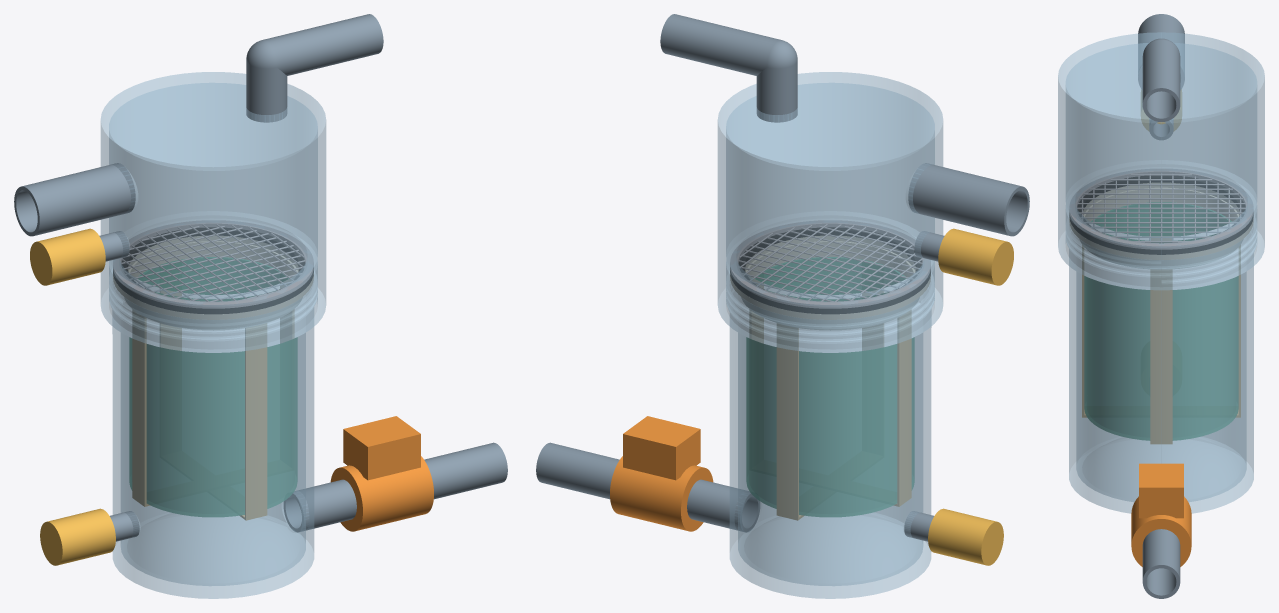
Rendered from microfiber_filter_v7.glb.
3 views of the same model, side by side, from view 1: azimuth 30°, elevation 25°; view 2: azimuth 150°, elevation 25°; view 3: azimuth 270°, elevation 25° (orthographic). The views are drawn at different scales.
Parts seen in each view (by area): view 1: Stage2_Bottom_Housing, Stage1_Top_Housing, Fine_Fibre_Basket, Coarse_Mesh_Disc, Flow_Rate_Sensor, Overflow_Pipe, Water_Inlet, Plastic_Support_Ring, Cloth_Strap_2, Cloth_Strap_1, P2_Pressure_Sensor, P1_Pressure_Sensor (+5 smaller); view 2: Stage2_Bottom_Housing, Stage1_Top_Housing, Fine_Fibre_Basket, Coarse_Mesh_Disc, Flow_Rate_Sensor, Overflow_Pipe, Water_Inlet, Plastic_Support_Ring, Cloth_Strap_2, Cloth_Strap_1, P2_Pressure_Sensor, P1_Pressure_Sensor (+5 smaller); view 3: Stage1_Top_Housing, Stage2_Bottom_Housing, Fine_Fibre_Basket, Coarse_Mesh_Disc, Plastic_Support_Ring, Flow_Rate_Sensor, Cloth_Strap_1, Overflow_Pipe, Final_Outlet, Rubber_Sealing_Ring, Water_Inlet, Cloth_Strap_2 (+2 smaller).
Boxes of the visible parts, x1,y1,x2,y2 form: Stage2_Bottom_Housing: (109, 271, 316, 598); Stage1_Top_Housing: (100, 72, 326, 352); Fine_Fibre_Basket: (129, 257, 297, 516); Coarse_Mesh_Disc: (113, 220, 313, 308); Flow_Rate_Sensor: (330, 416, 433, 531); Overflow_Pipe: (246, 14, 383, 122); Water_Inlet: (14, 163, 135, 236); Plastic_Support_Ring: (113, 235, 313, 330); Cloth_Strap_2: (160, 290, 267, 520); Cloth_Strap_1: (132, 279, 294, 506); P2_Pressure_Sensor: (40, 508, 115, 565); P1_Pressure_Sensor: (30, 228, 105, 285); Stage2_Bottom_Housing: (727, 273, 934, 598); Stage1_Top_Housing: (717, 72, 943, 352); Fine_Fibre_Basket: (746, 257, 914, 516); Coarse_Mesh_Disc: (730, 220, 930, 308); Flow_Rate_Sensor: (610, 416, 713, 531); Overflow_Pipe: (660, 14, 797, 122); Water_Inlet: (908, 163, 1029, 236); Plastic_Support_Ring: (730, 235, 930, 330); Cloth_Strap_2: (776, 290, 883, 520); Cloth_Strap_1: (749, 279, 911, 506); P2_Pressure_Sensor: (928, 508, 1003, 565); P1_Pressure_Sensor: (938, 228, 1013, 285); Stage1_Top_Housing: (1058, 32, 1264, 290); Stage2_Bottom_Housing: (1066, 217, 1256, 513); Fine_Fibre_Basket: (1084, 202, 1238, 440); Coarse_Mesh_Disc: (1069, 169, 1253, 249); Plastic_Support_Ring: (1069, 182, 1253, 269); Flow_Rate_Sensor: (1131, 463, 1191, 566); Cloth_Strap_1: (1150, 238, 1172, 444); Overflow_Pipe: (1142, 38, 1180, 121); Final_Outlet: (1142, 529, 1180, 598); Rubber_Sealing_Ring: (1069, 175, 1253, 254); Water_Inlet: (1138, 14, 1184, 90); Cloth_Strap_2: (1082, 245, 1240, 417).
Size of the model in its own units: 0.265 by 0.273 by 0.11.
